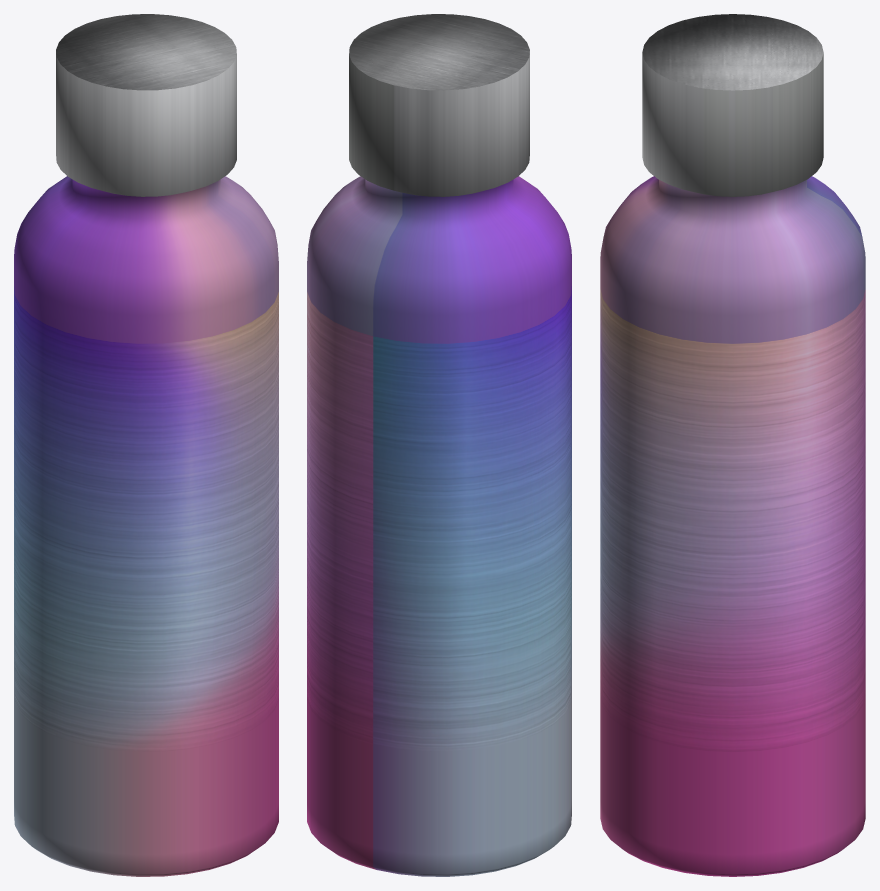
File: water-bottle.fbx
3 renders of one model, left to right at view 1: azimuth 30°, elevation 25°; view 2: azimuth 150°, elevation 25°; view 3: azimuth 270°, elevation 25°, orthographic.
Parts seen in each view (by area): view 1: Cylinder; view 2: Cylinder; view 3: Cylinder.
Part boxes in pixels (x1,y1,x2,y2): Cylinder: (14, 14, 278, 876); Cylinder: (307, 14, 571, 876); Cylinder: (600, 14, 865, 876).
Size of the model in its own units: 126 by 406 by 126.
2 materials, 2 textured.
